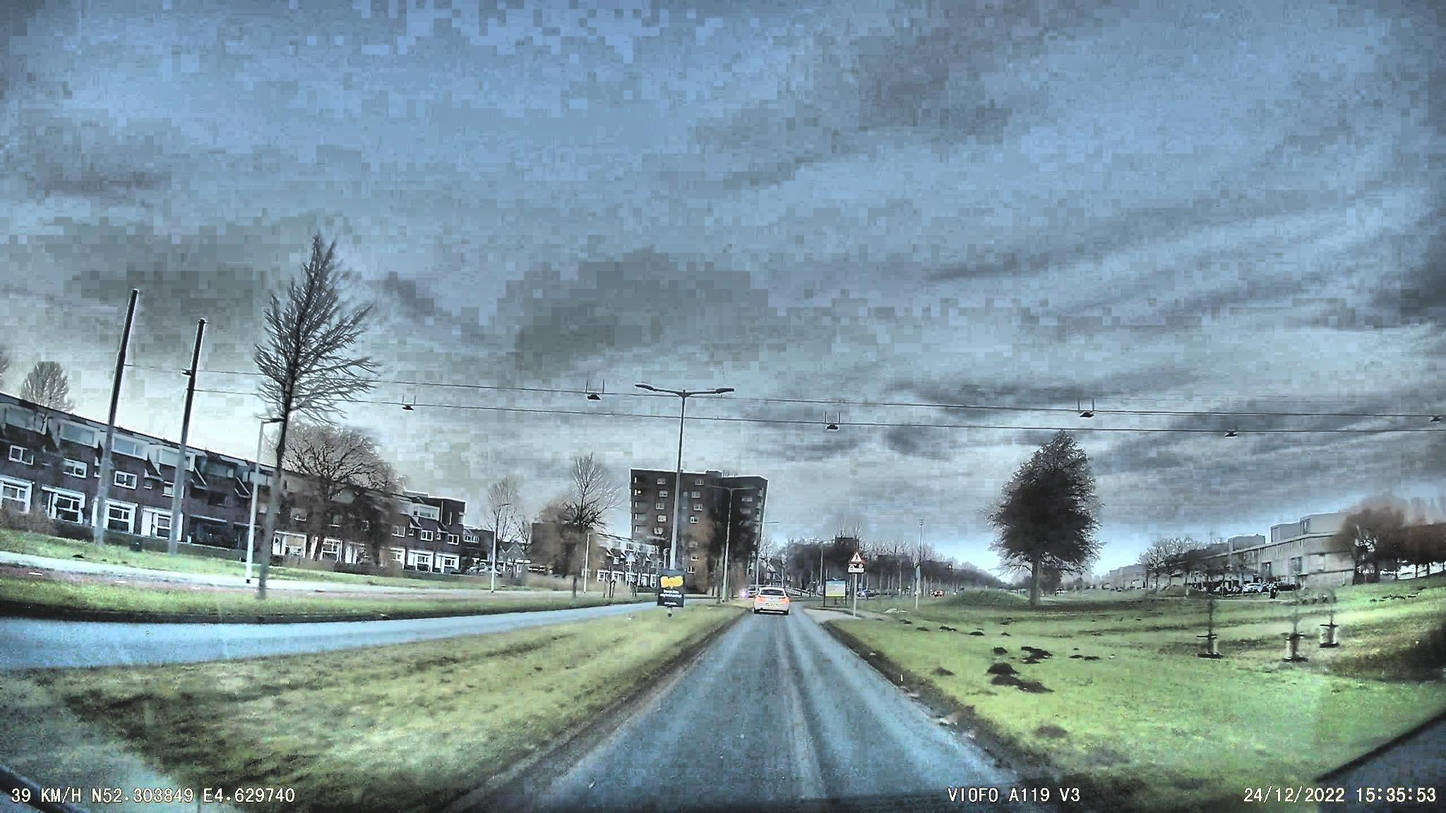Roads: (475, 613, 1081, 813)
